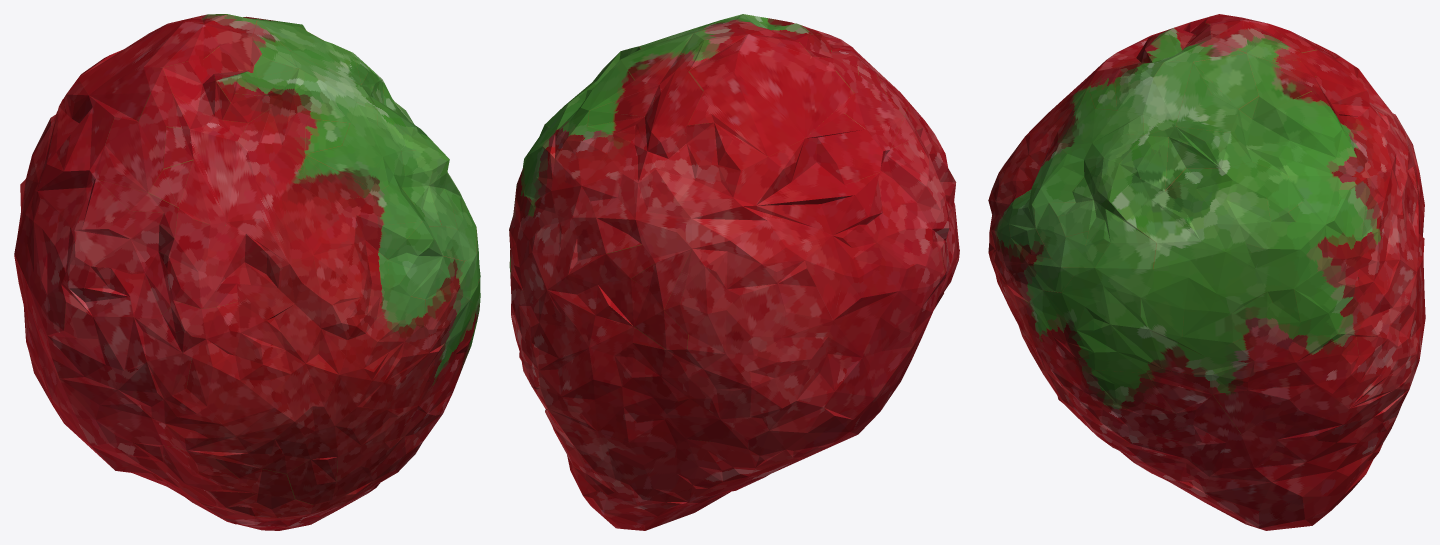
The model's file is ycb_strawberry_metric_fp.obj.
3 renders of one model, left to right at view 1: azimuth 30°, elevation 25°; view 2: azimuth 150°, elevation 25°; view 3: azimuth 270°, elevation 25°, orthographic. The views are drawn at different scales.
Bounding box in the file's own units: 0.0419 × 0.0538 × 0.0457.
1 material, 1 textured.
